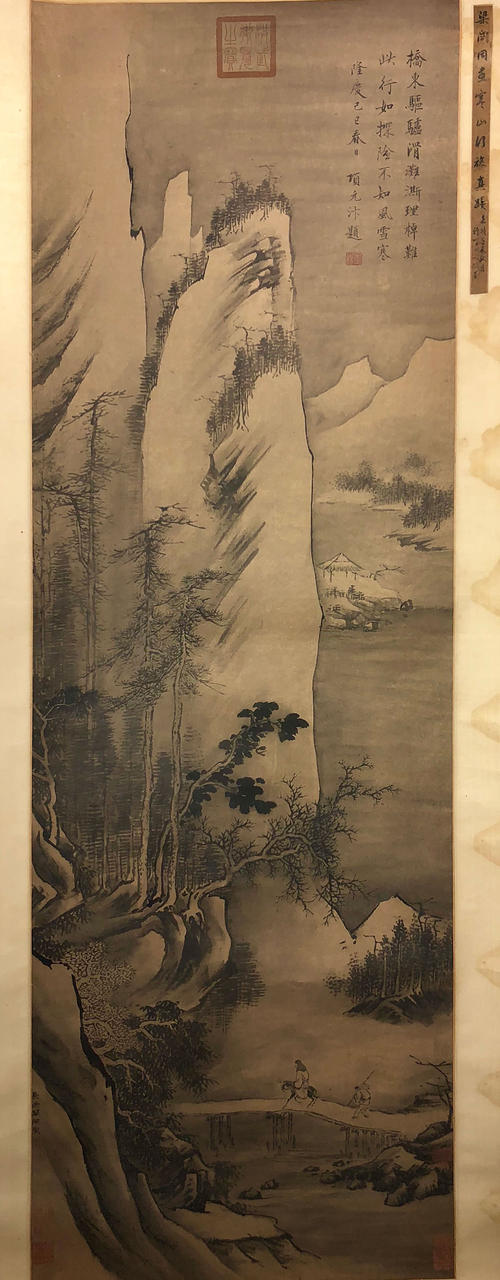booth: (314, 545, 370, 586)
horse: (274, 1076, 327, 1105)
man: (282, 1048, 326, 1110), (345, 1076, 382, 1122)
mountain: (170, 170, 314, 663)
tree: (68, 513, 217, 911), (162, 752, 401, 910), (115, 1001, 233, 1136), (59, 951, 151, 1058), (334, 927, 462, 994)
